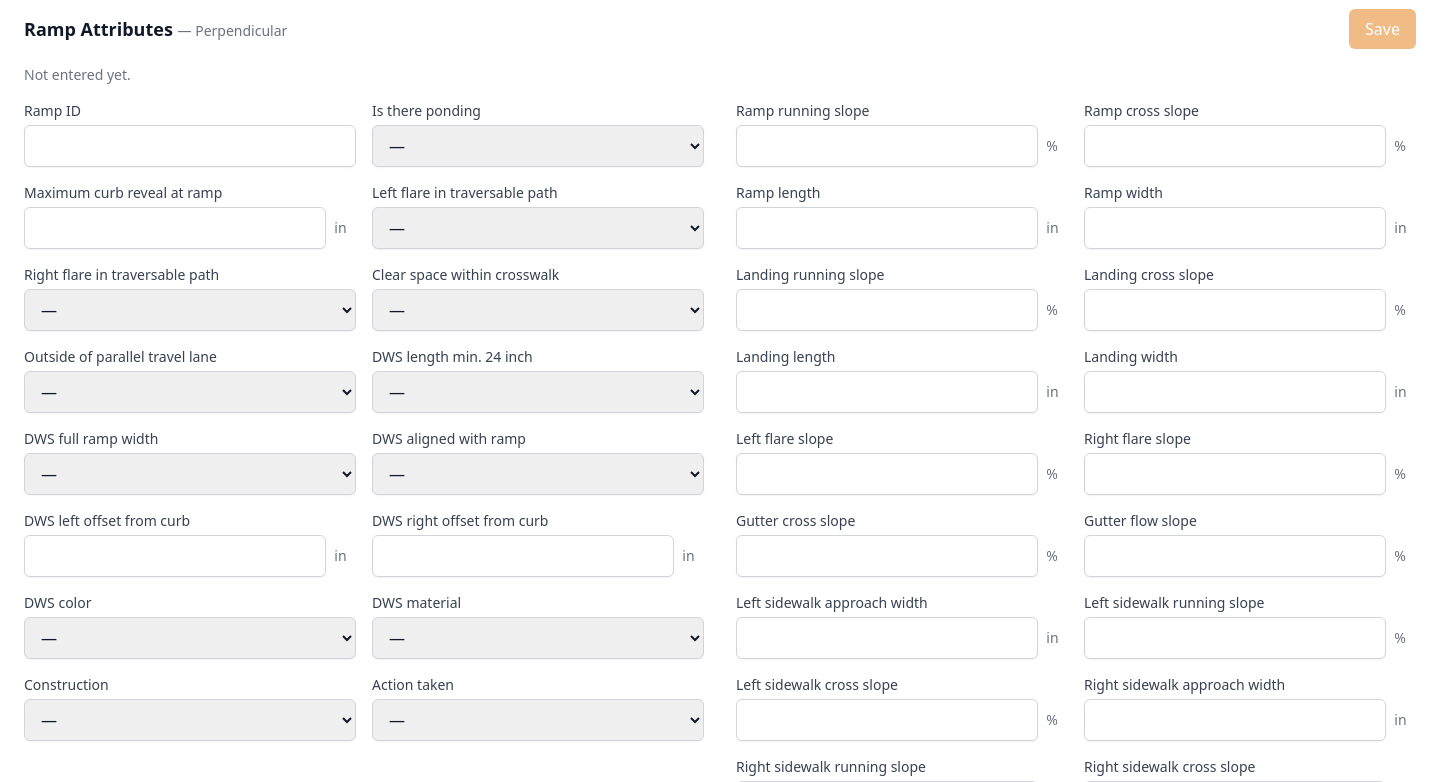
Scenario: RampAttributesSection › keeps Save off while a measurement isn't a number
Type "wide" into the field labelled "Ramp width" at coordinates (1235, 228), box [1084,207,1386,249]
(page scrolled)
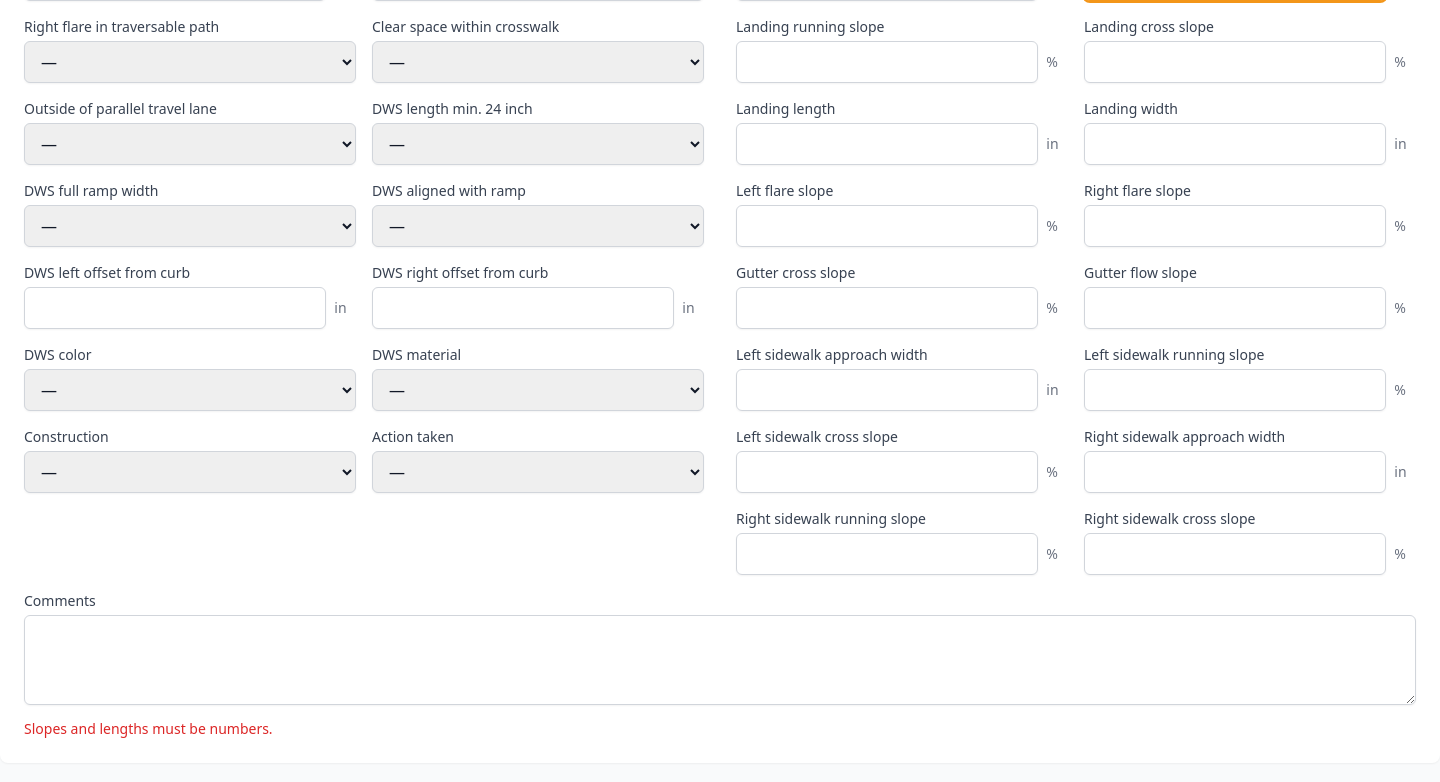
expect the text "Slopes and lengths must be numbers." is shown: met, box [24,719,273,738]
